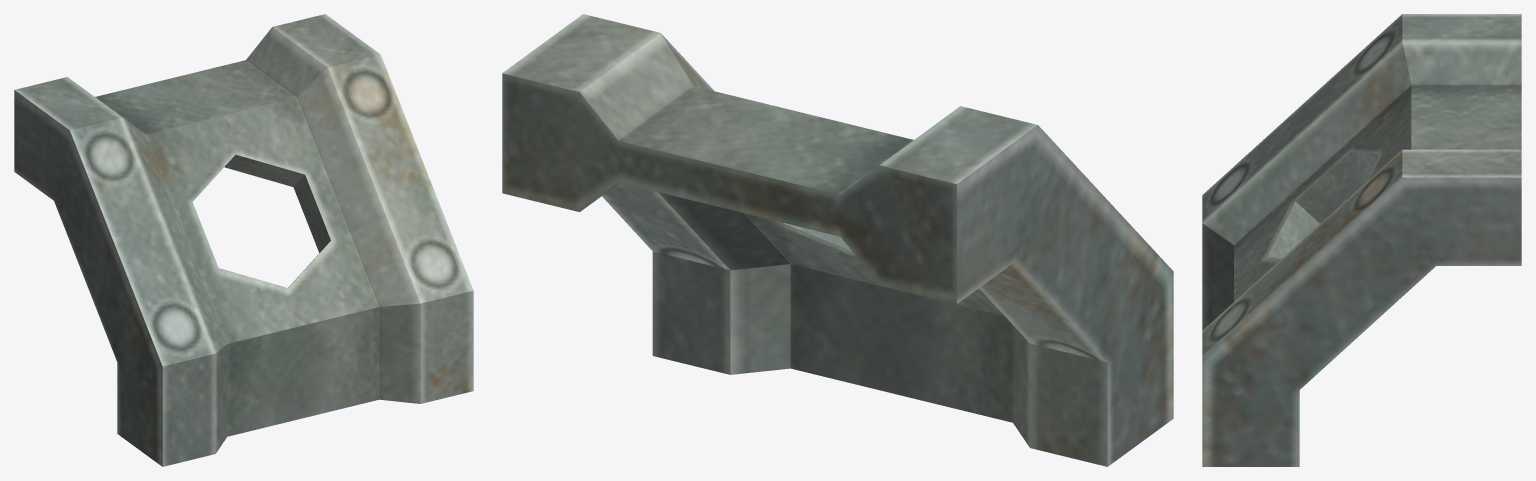
Rendered from Girder_CornerFront.FBX.
3 views of the same model, side by side, from view 1: azimuth 30°, elevation 25°; view 2: azimuth 150°, elevation 25°; view 3: azimuth 270°, elevation 25° (orthographic). The views are drawn at different scales.
Visible parts, largest first — view 1: Girder_CornerFront; view 2: Girder_CornerFront; view 3: Girder_CornerFront.
Boxes of the visible parts, x1,y1,x2,y2 form: Girder_CornerFront: [14, 14, 473, 466]; Girder_CornerFront: [502, 14, 1173, 466]; Girder_CornerFront: [1202, 14, 1521, 466].
Size of the model in its own units: 100 by 82.53 by 82.53.
